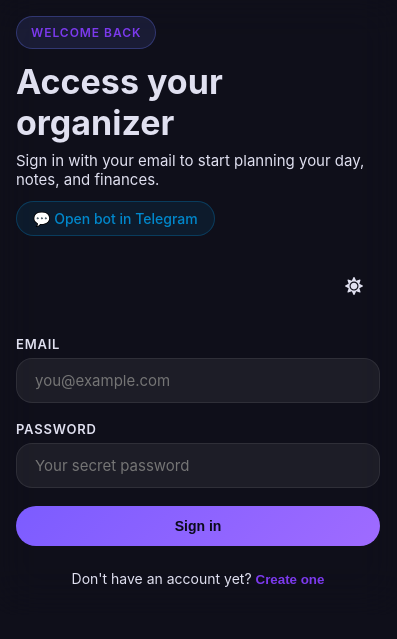
a failed sign-in shows the error and keeps the entered e-mail
This screenshot has width=397, height=639.
Type "maria@example.com" into the field labelled "Email" at point(198, 380), box [16,358,380,403]
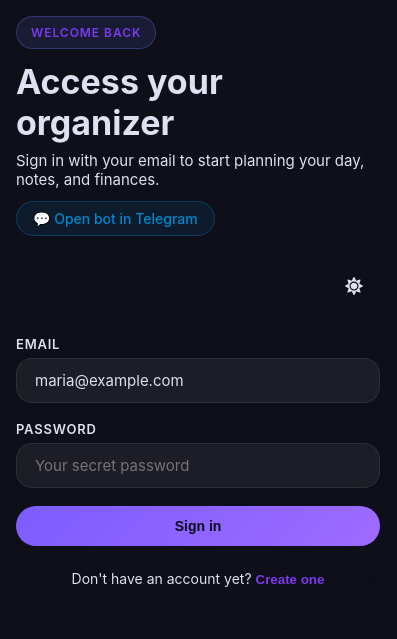
Type "wrong-pass" into the password field labelled "Password" at point(198, 466), box [16,443,380,488]
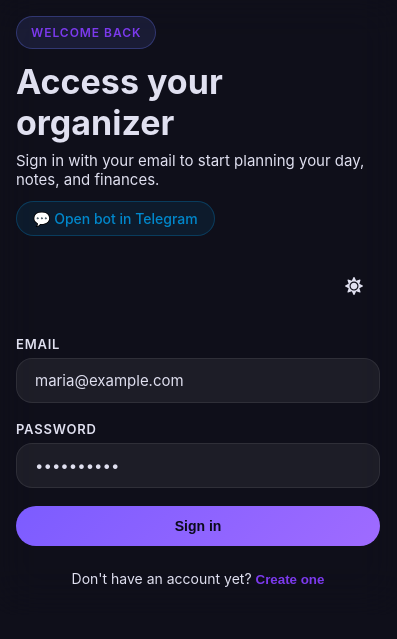
Click the button "Sign in" at point(198, 526), box [16,506,380,546]
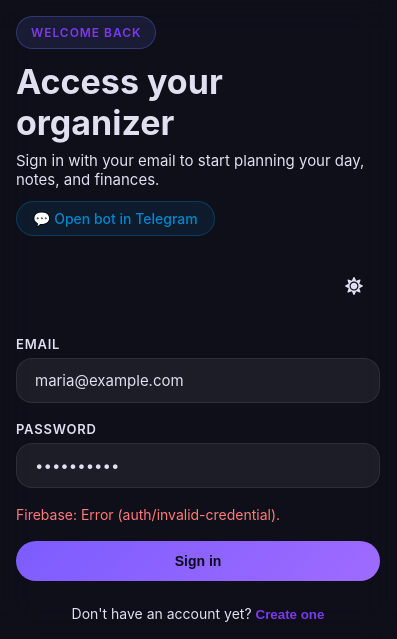
Check: the button "Sign in" is enabled, box [16,541,380,581]
Check: the text "Firebase: Error (auth/invalid-credential)." is shown, box [16,506,280,523]
